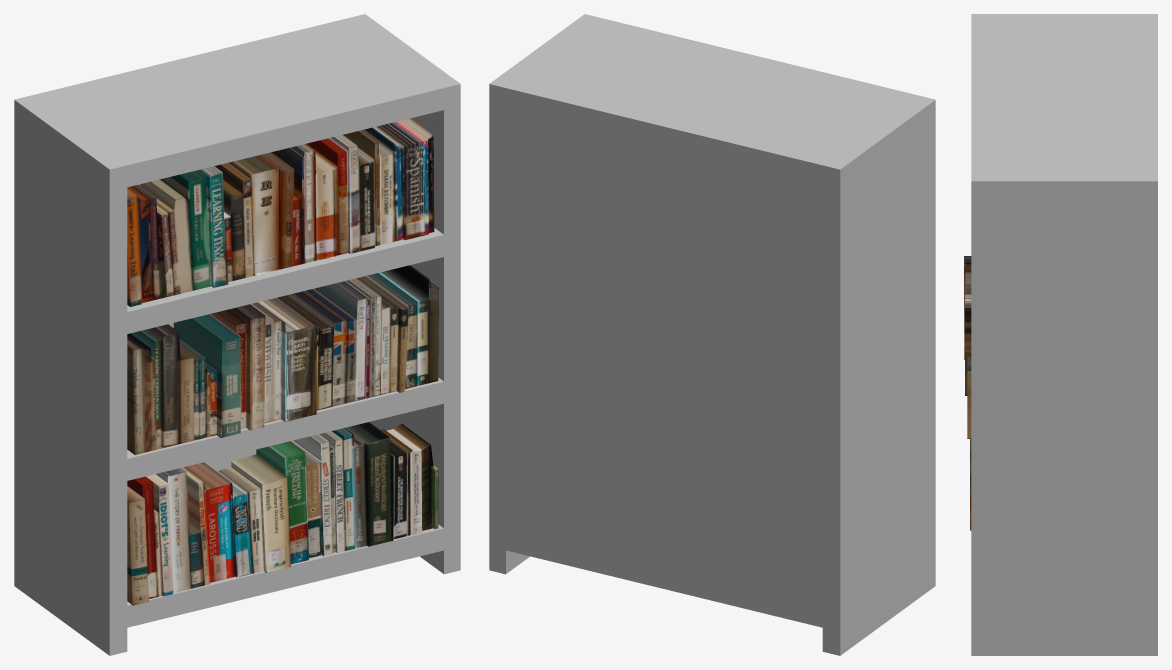
The model's file is Bookshelf.fbx.
3 views of the same model, side by side, from view 1: azimuth 30°, elevation 25°; view 2: azimuth 150°, elevation 25°; view 3: azimuth 270°, elevation 25° (orthographic). The views are drawn at different scales.
Visible parts, largest first — view 1: Shelf, Row 2, Row 1, Row 3; view 2: Shelf; view 3: Shelf, Row 2.
Part boxes in pixels (x1,y1,x2,y2): Shelf: (14,14,460,655); Row 2: (127,265,439,454); Row 1: (127,422,438,605); Row 3: (127,118,434,306); Shelf: (489,14,935,655); Shelf: (971,14,1157,655); Row 2: (964,256,971,438).
Bounding box in the file's own units: 180 × 238 × 87.94.
